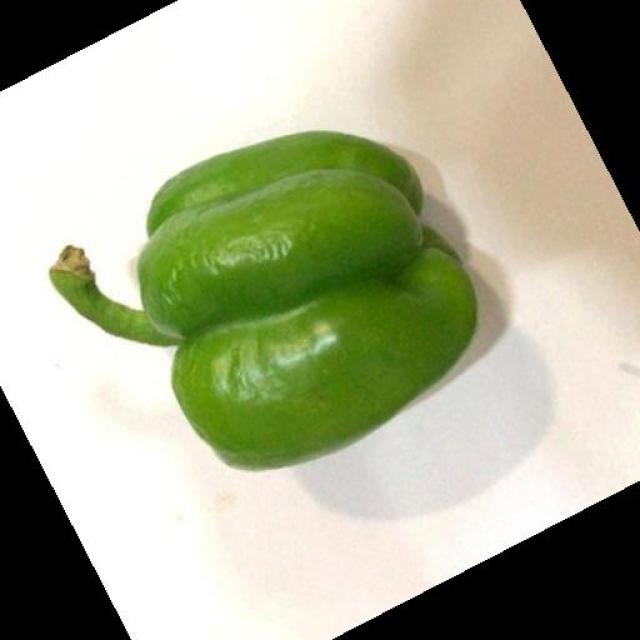Fresh_Capsicum: (56, 129, 468, 418)
